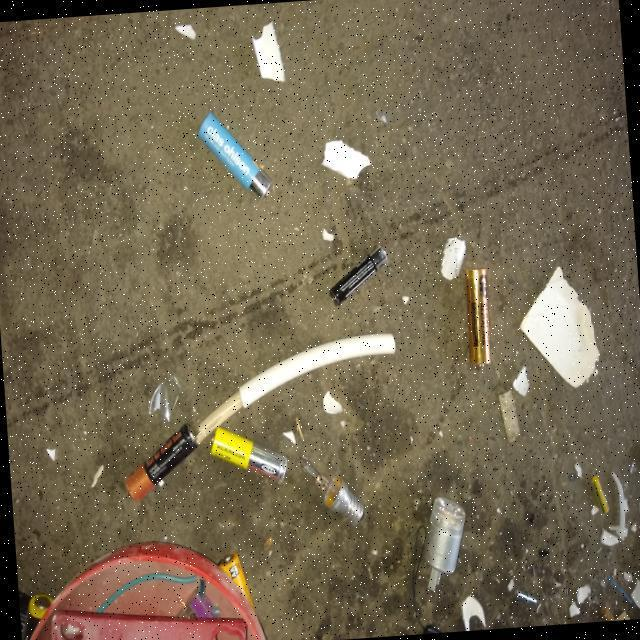AA: (102, 420, 212, 508), (202, 414, 292, 498), (196, 110, 271, 198), (465, 254, 502, 374)
AAA: (328, 246, 388, 303)
